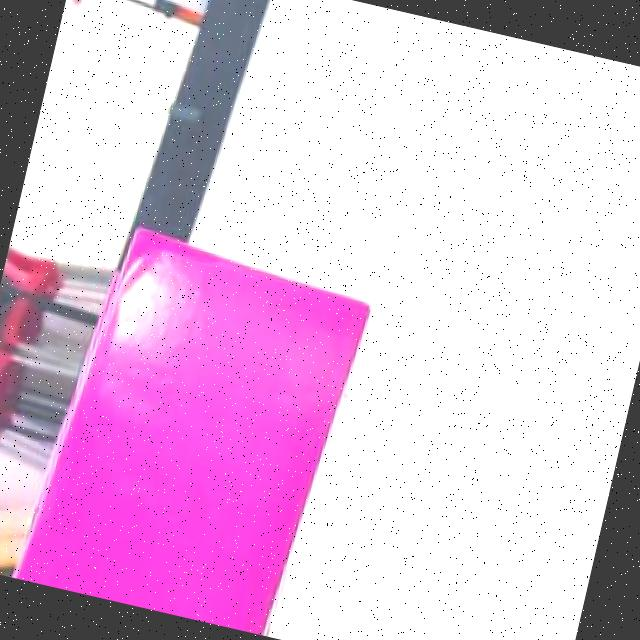xparking: (49, 237, 354, 638)
